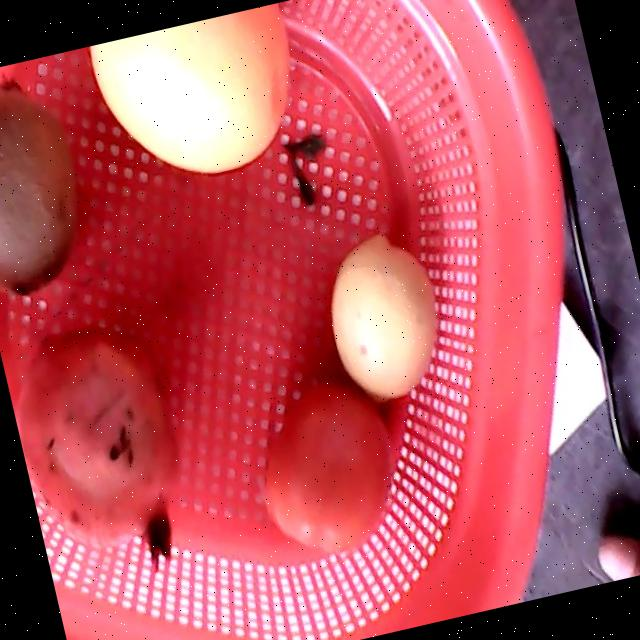kiwi: (0, 74, 78, 295)
lemon: (331, 232, 438, 399)
orange: (87, 6, 289, 170)
pomegranate: (12, 326, 179, 567)
tomato: (262, 369, 390, 554)
